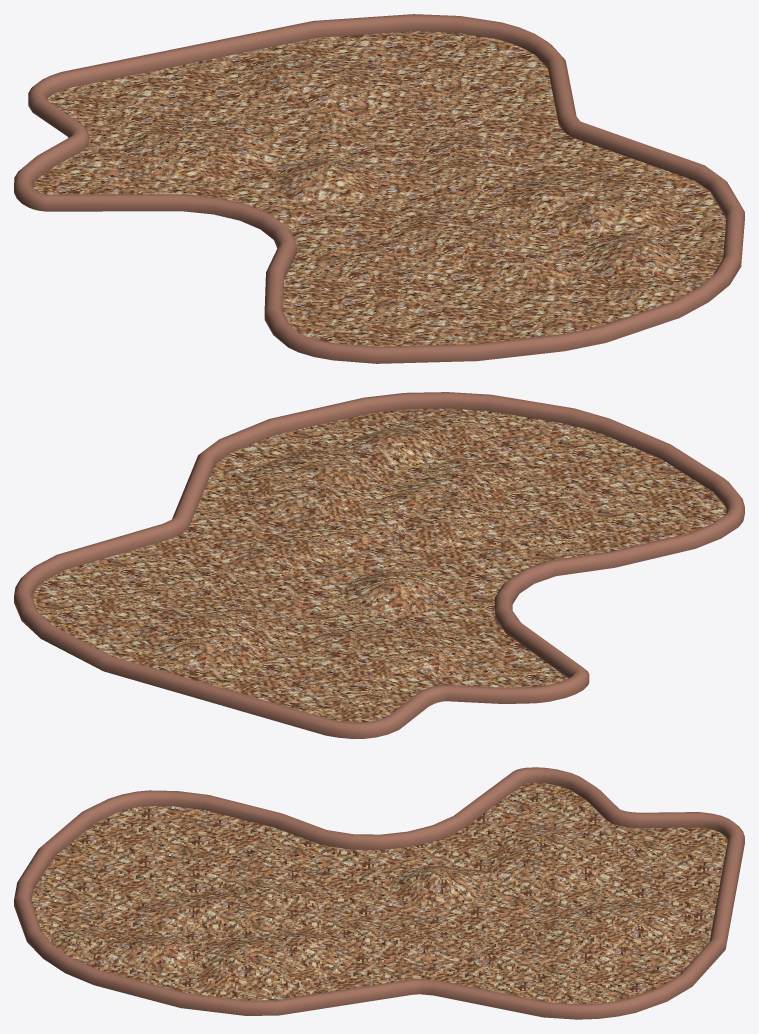
Rendered from PlaypitBoundry.fbx.
The picture shows the model from 3 angles, top to bottom: view 1: azimuth 30°, elevation 25°; view 2: azimuth 150°, elevation 25°; view 3: azimuth 270°, elevation 25°; orthographic projection. The views are drawn at different scales.
Parts seen in each view (by area): view 1: PlaypitBoundry; view 2: PlaypitBoundry; view 3: PlaypitBoundry.
Part boxes in pixels (<box>): PlaypitBoundry: <box>14,14,744,363</box>; PlaypitBoundry: <box>14,392,744,738</box>; PlaypitBoundry: <box>14,767,744,1019</box>.
Size of the model in its own units: 936 by 27.32 by 1186.
